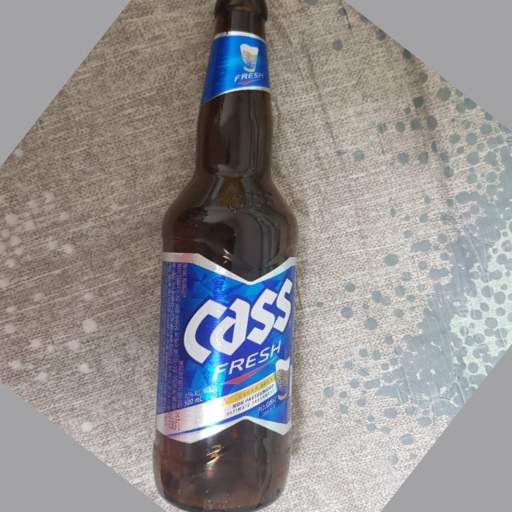Glass_1: (146, 1, 307, 512)
